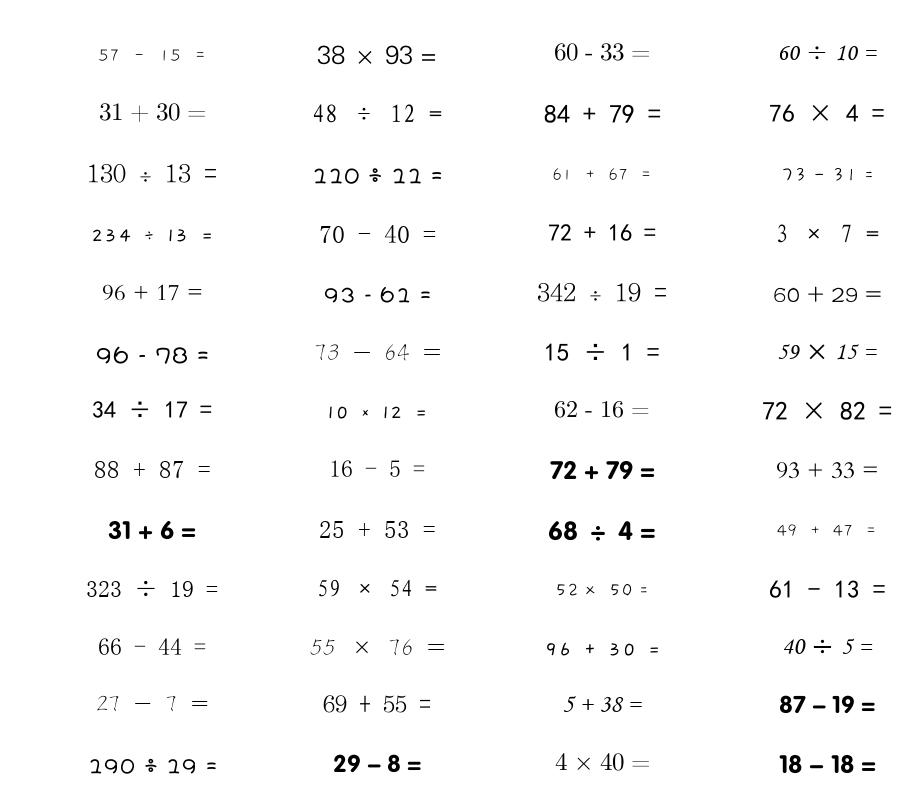MQ: (87, 163, 217, 183), (537, 282, 667, 302), (312, 104, 442, 123), (762, 401, 892, 420), (317, 45, 437, 65), (310, 639, 445, 656), (314, 343, 441, 361), (86, 580, 218, 597), (544, 104, 661, 123), (548, 521, 656, 541), (317, 579, 437, 597), (99, 103, 206, 123), (319, 225, 436, 243), (769, 580, 886, 598), (550, 460, 655, 480), (312, 168, 443, 184), (769, 104, 885, 122), (544, 343, 660, 361), (88, 758, 217, 774), (92, 401, 212, 418), (96, 346, 209, 364), (94, 461, 211, 478), (319, 521, 436, 538), (775, 224, 879, 243), (323, 695, 431, 713), (779, 754, 876, 774), (96, 695, 209, 712), (773, 286, 882, 303), (548, 224, 656, 241), (98, 638, 206, 655), (779, 695, 875, 714), (324, 286, 431, 303), (108, 520, 196, 540), (776, 462, 879, 479), (554, 43, 650, 61), (554, 400, 650, 418), (102, 284, 203, 301), (555, 753, 650, 771), (333, 754, 421, 773), (544, 642, 661, 656), (329, 460, 425, 477), (777, 45, 877, 61), (777, 344, 877, 360), (91, 229, 214, 242), (782, 638, 873, 654), (98, 49, 207, 62), (781, 167, 874, 182), (555, 583, 649, 597), (327, 406, 428, 419), (552, 168, 652, 181), (777, 524, 877, 537), (562, 696, 642, 712)
